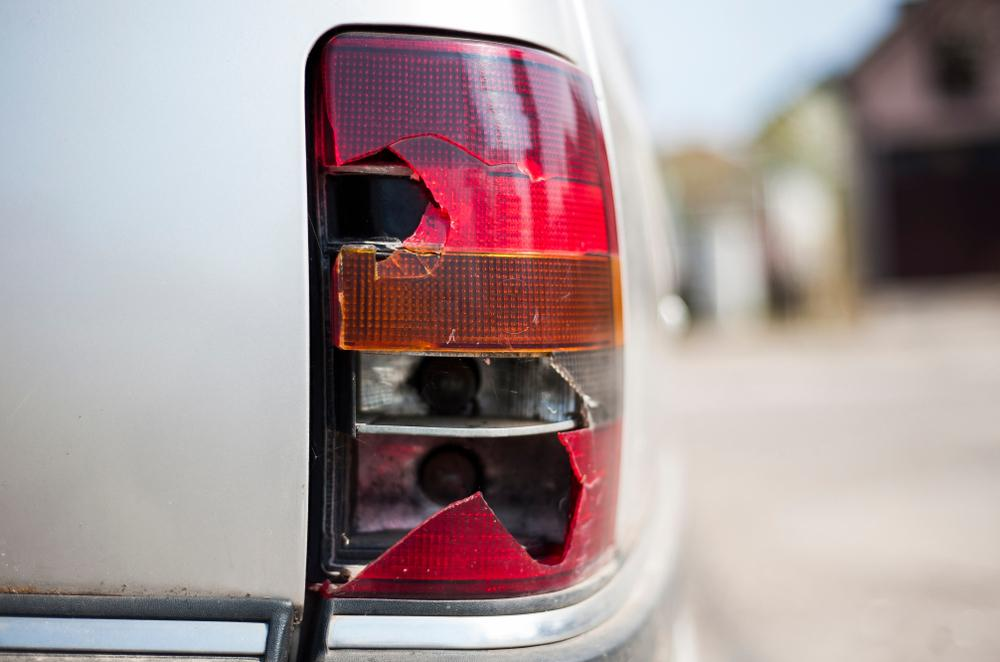lamp broken: (314, 26, 627, 601)
